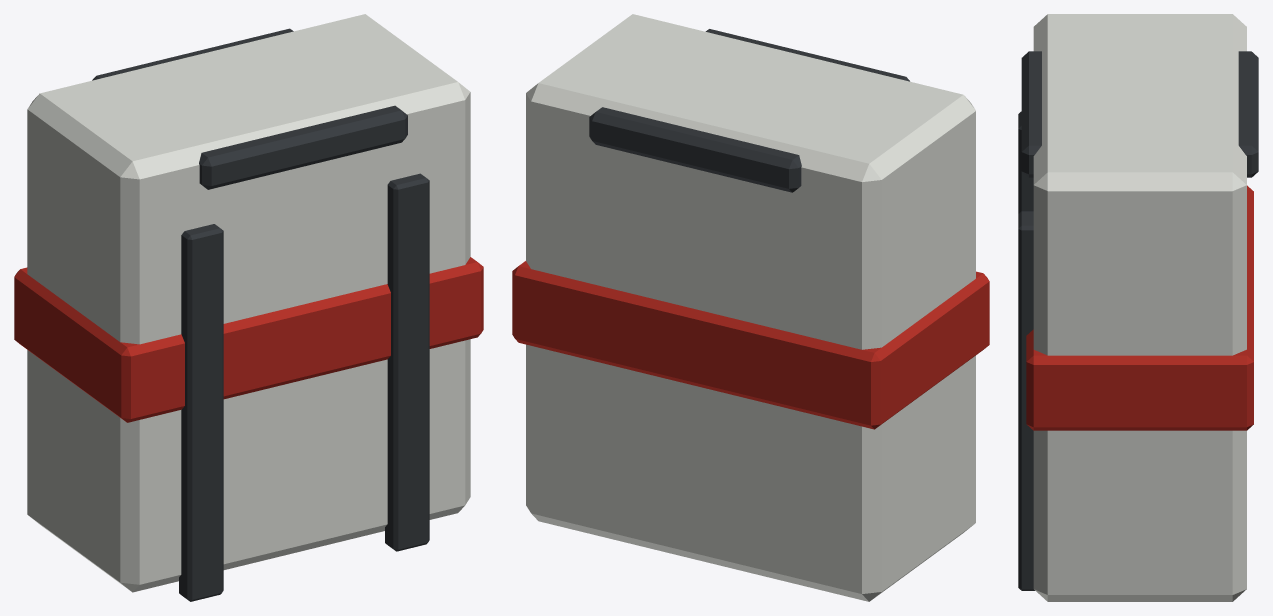
The model's file is npc_crate_pack.glb.
3 renders of one model, left to right at view 1: azimuth 30°, elevation 25°; view 2: azimuth 150°, elevation 25°; view 3: azimuth 270°, elevation 25°, orthographic.
Visible parts, largest first — view 1: part.npc_crate_pack; view 2: part.npc_crate_pack; view 3: part.npc_crate_pack.
Boxes of the visible parts, bbox=[...] form: part.npc_crate_pack: bbox=[14, 14, 483, 601]; part.npc_crate_pack: bbox=[512, 14, 989, 601]; part.npc_crate_pack: bbox=[1018, 14, 1258, 601].
Bounding box in the file's own units: 0.352 × 0.41 × 0.203.
